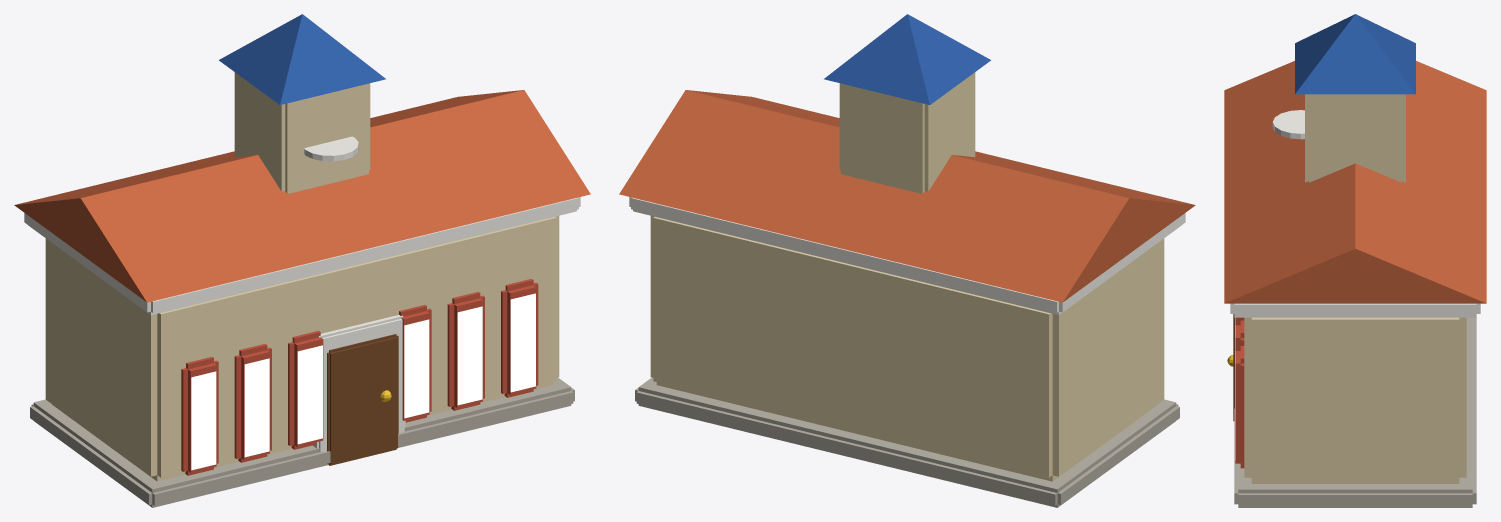
File: college.glb
3 views of the same model, side by side, from view 1: azimuth 30°, elevation 25°; view 2: azimuth 150°, elevation 25°; view 3: azimuth 270°, elevation 25° (orthographic).
Parts seen in each view (by area): view 1: college; view 2: college; view 3: college.
Boxes of the visible parts, box(x1,y1,x2,y2) form: college: box(14, 14, 590, 507); college: box(619, 14, 1195, 507); college: box(1224, 14, 1486, 507).
Bounding box in the file's own units: 2.5 × 2.15 × 1.3.
